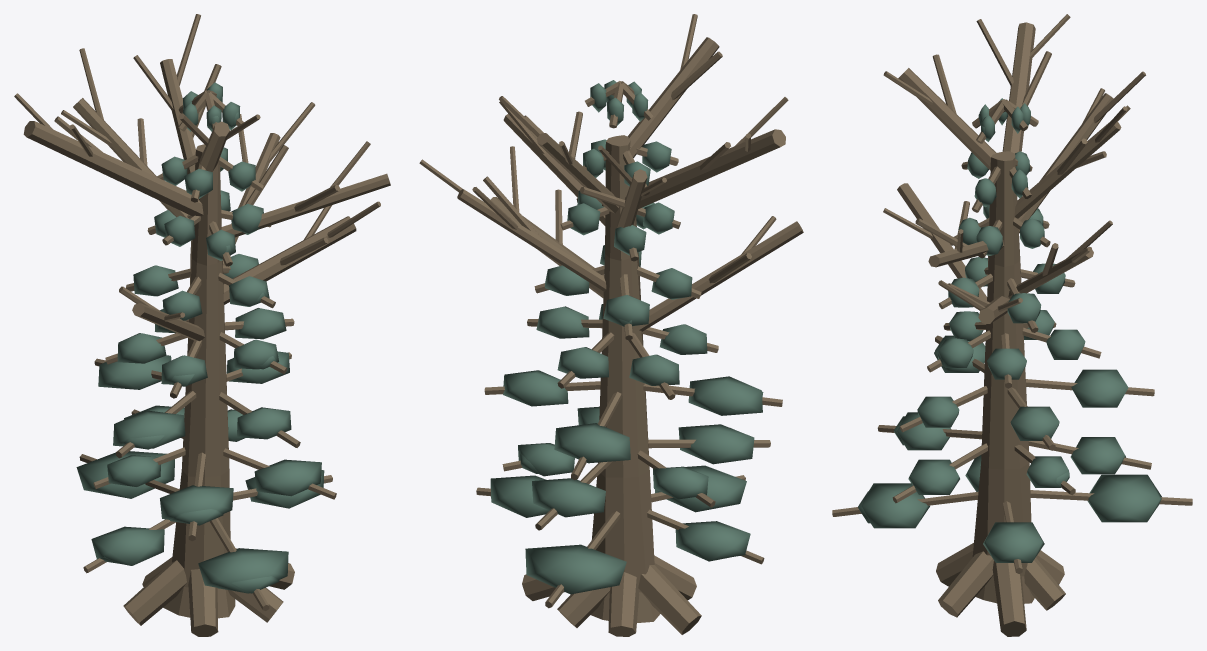
The model's file is alpine_conifer.glb.
The picture shows the model from 3 angles, left to right: view 1: azimuth 30°, elevation 25°; view 2: azimuth 150°, elevation 25°; view 3: azimuth 270°, elevation 25°; orthographic projection. The views are drawn at different scales.
Parts seen in each view (by area): view 1: alpine_conifer LOD0; view 2: alpine_conifer LOD0; view 3: alpine_conifer LOD0.
Boxes of the visible parts, <box> form: alpine_conifer LOD0: <box>14,14,390,636</box>; alpine_conifer LOD0: <box>419,14,803,636</box>; alpine_conifer LOD0: <box>832,14,1192,636</box>.
Size of what is drawn, in the model's own units: 4.5 by 7.25 by 4.53.
